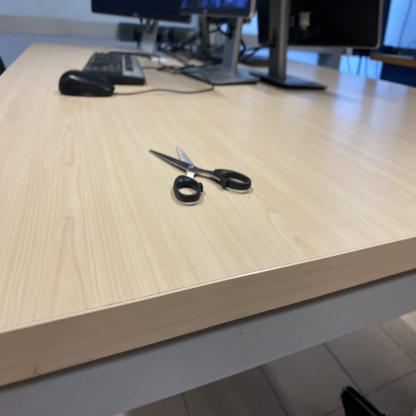scissors: (146, 140, 256, 208)
